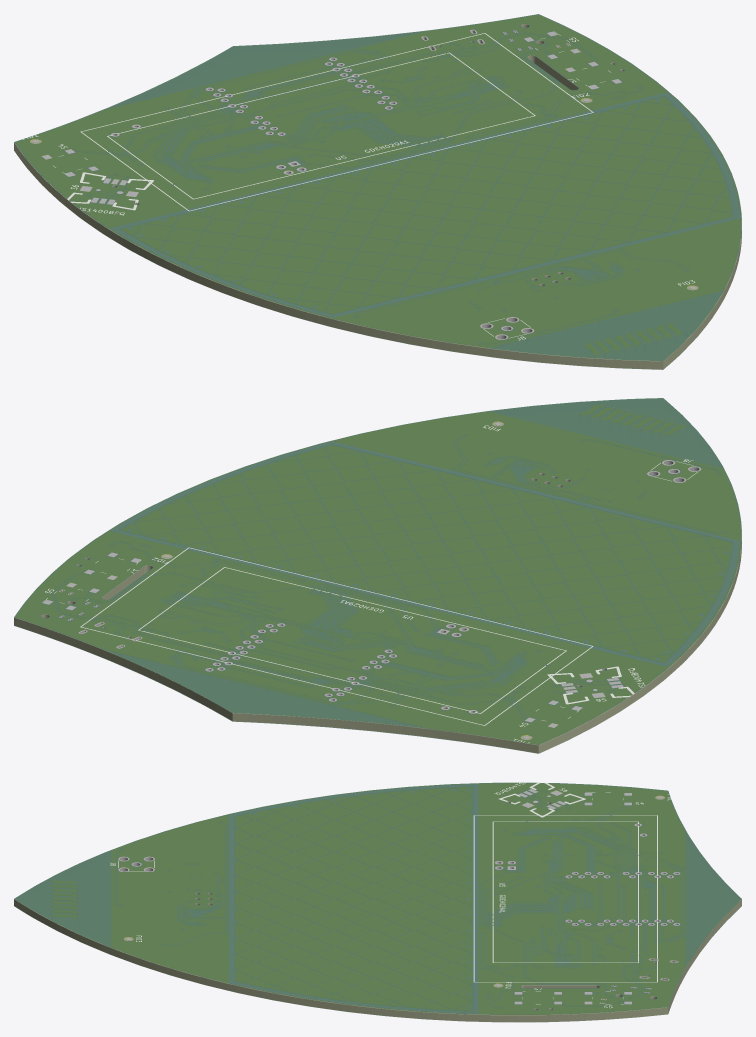
Rendered from troopers-20-badge-hardware.glb.
3 views of the same model, one above another, from view 1: azimuth 30°, elevation 25°; view 2: azimuth 150°, elevation 25°; view 3: azimuth 270°, elevation 25° (orthographic). The views are drawn at different scales.
Parts seen in each view (by area): view 1: =>[0:1:1:7], =>[0:1:1:2], =>[0:1:1:9], =>[0:1:1:5]; view 2: =>[0:1:1:7], =>[0:1:1:2], =>[0:1:1:9], =>[0:1:1:5]; view 3: =>[0:1:1:7], =>[0:1:1:2], =>[0:1:1:9], =>[0:1:1:5].
Boxes of the visible parts, x1,y1,x2,y2 form: =>[0:1:1:7]: (14, 14, 741, 369); =>[0:1:1:2]: (16, 15, 739, 356); =>[0:1:1:9]: (14, 24, 741, 369); =>[0:1:1:5]: (16, 31, 724, 369); =>[0:1:1:7]: (14, 398, 741, 753); =>[0:1:1:2]: (16, 403, 739, 743); =>[0:1:1:9]: (14, 399, 741, 753); =>[0:1:1:5]: (19, 425, 729, 753); =>[0:1:1:7]: (14, 782, 741, 1022); =>[0:1:1:2]: (50, 783, 684, 1014); =>[0:1:1:9]: (14, 787, 741, 1022); =>[0:1:1:5]: (35, 782, 728, 1022).
Size of the model in its own units: 0.1102 by 0.00166 by 0.1458.
4 materials, 4 textured.
